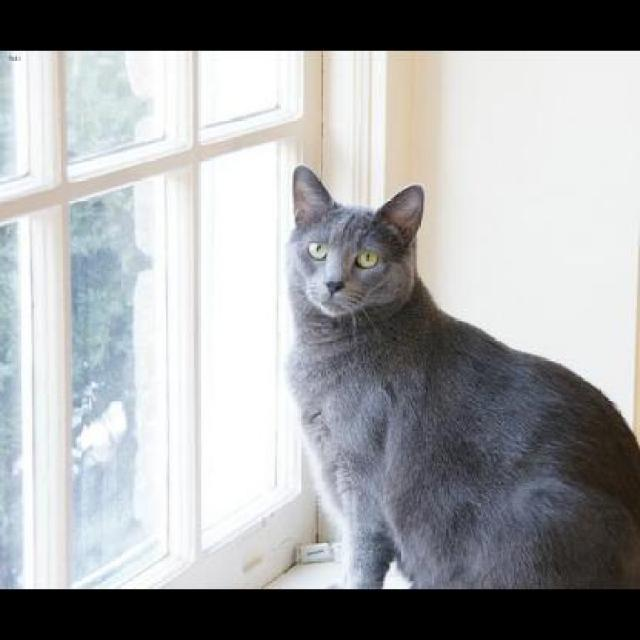unauthorized: (283, 163, 639, 589)
